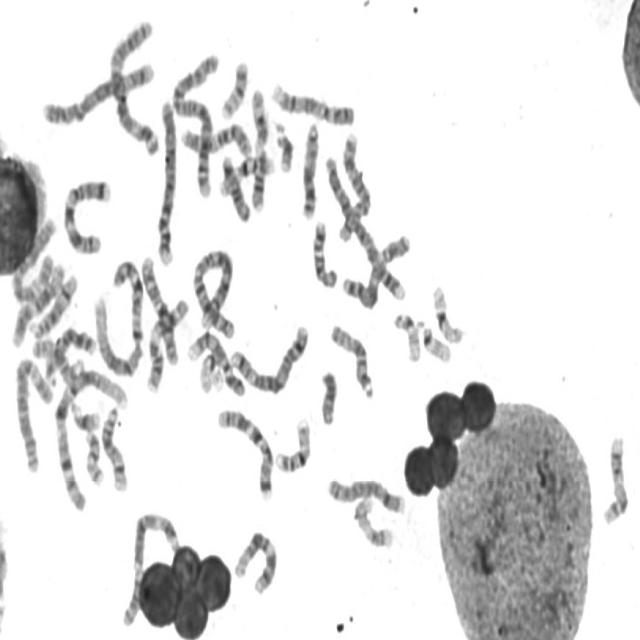A1: (49, 361, 130, 512), (91, 253, 146, 379)
A2: (168, 46, 220, 200), (188, 243, 236, 341)
A3: (106, 11, 161, 157), (118, 508, 181, 629)
B4: (38, 54, 155, 128), (152, 92, 178, 268)
B5: (314, 154, 407, 298), (227, 318, 310, 396)
C10: (136, 251, 181, 366), (176, 116, 254, 159)
C11: (143, 292, 191, 394), (247, 84, 269, 214)
C12: (6, 254, 66, 349), (230, 525, 278, 597)
C6: (10, 352, 53, 474), (7, 210, 57, 306)
C7: (213, 403, 275, 502), (59, 172, 112, 258)
C8: (334, 130, 372, 243), (323, 471, 406, 516)
C9: (183, 326, 246, 400), (267, 76, 356, 128)
D13: (40, 321, 96, 387), (297, 116, 321, 220)
D14: (25, 268, 79, 342), (98, 401, 130, 494)
D15: (326, 316, 376, 402), (28, 332, 80, 385)
E16: (215, 148, 277, 199), (271, 412, 312, 474)
E17: (598, 429, 630, 527), (350, 492, 395, 550)
E18: (218, 149, 252, 224), (309, 215, 338, 290)
F19: (428, 278, 465, 346), (196, 345, 223, 395)
F20: (217, 55, 250, 121), (80, 425, 104, 487)
G21: (271, 116, 294, 174), (66, 396, 102, 433)
G22: (392, 312, 428, 368), (418, 319, 453, 365)
X: (338, 227, 412, 311)
Y: (316, 365, 338, 426)
